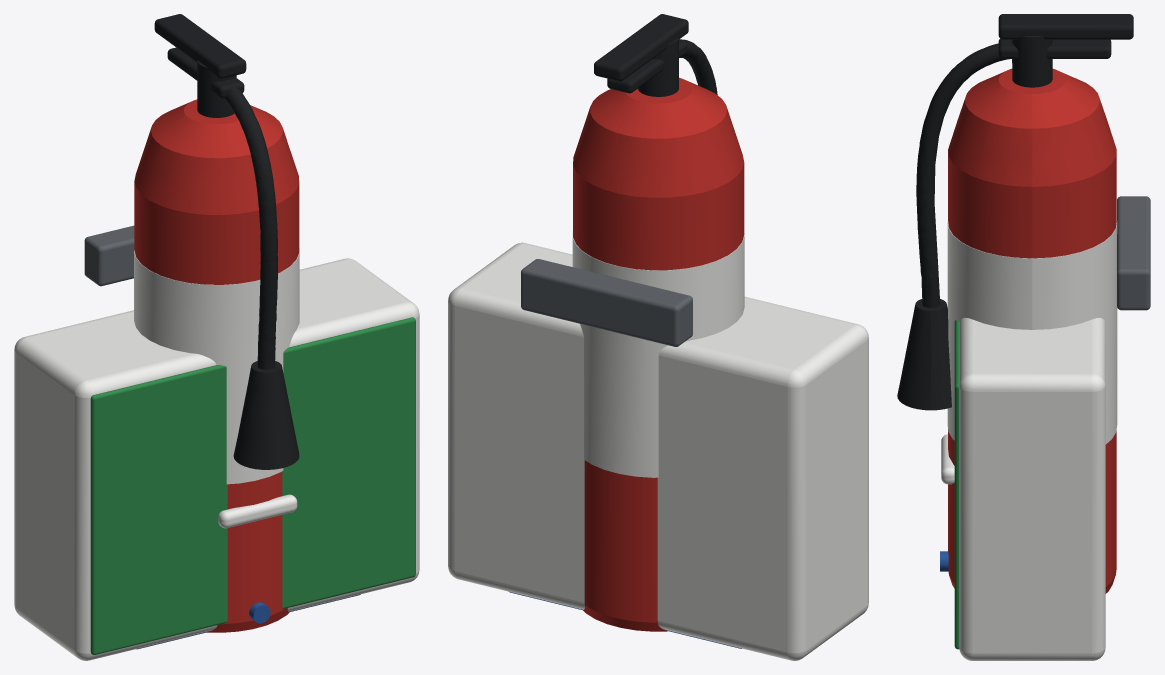
File: safety-kit.glb
3 renders of one model, left to right at view 1: azimuth 30°, elevation 25°; view 2: azimuth 150°, elevation 25°; view 3: azimuth 270°, elevation 25°, orthographic. The views are drawn at different scales.
Parts seen in each view (by area): view 1: first_aid_door, first_aid_box, fire_extinguisher, ext_label, ext_horn, ext_valve, ext_bracket, first_aid_handle; view 2: first_aid_box, fire_extinguisher, ext_label, ext_bracket, ext_valve, ext_horn; view 3: first_aid_box, fire_extinguisher, ext_label, ext_horn, ext_valve, ext_bracket, first_aid_door, first_aid_handle.
Boxes of the visible parts, x1=… form: first_aid_door: x1=90, y1=317, x2=415, y2=654; first_aid_box: x1=14, y1=258, x2=419, y2=660; fire_extinguisher: x1=134, y1=99, x2=299, y2=632; ext_label: x1=134, y1=248, x2=299, y2=484; ext_horn: x1=224, y1=80, x2=299, y2=469; ext_valve: x1=154, y1=14, x2=246, y2=117; ext_bracket: x1=84, y1=225, x2=134, y2=286; first_aid_handle: x1=218, y1=494, x2=297, y2=528; first_aid_box: x1=448, y1=242, x2=868, y2=660; fire_extinguisher: x1=573, y1=77, x2=744, y2=631; ext_label: x1=572, y1=231, x2=744, y2=477; ext_bracket: x1=521, y1=259, x2=692, y2=346; ext_valve: x1=594, y1=14, x2=688, y2=96; ext_horn: x1=679, y1=39, x2=717, y2=94; first_aid_box: x1=959, y1=317, x2=1105, y2=660; fire_extinguisher: x1=948, y1=68, x2=1116, y2=593; ext_label: x1=947, y1=220, x2=1117, y2=444; ext_horn: x1=897, y1=40, x2=1012, y2=410; ext_valve: x1=998, y1=14, x2=1133, y2=87; ext_bracket: x1=1117, y1=196, x2=1150, y2=310; first_aid_door: x1=954, y1=320, x2=959, y2=649; first_aid_handle: x1=941, y1=434, x2=954, y2=484.
Size of the model in its own units: 0.36 by 0.5493 by 0.225.
